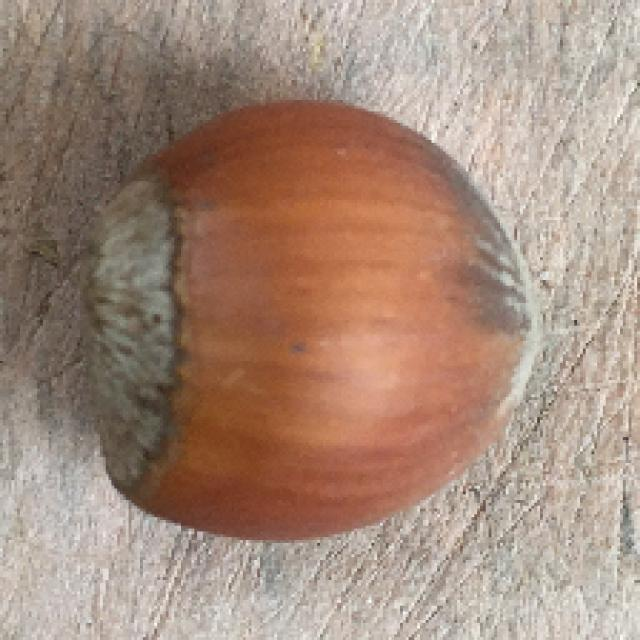qualityHazelnut: (88, 97, 549, 545)
